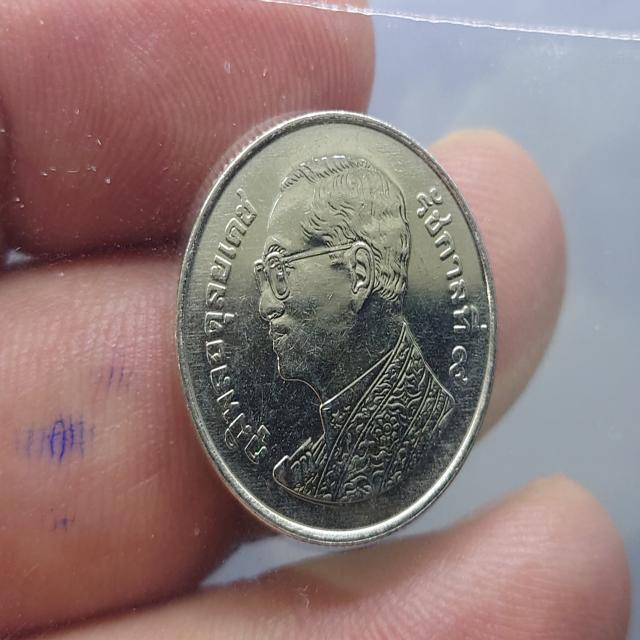1 Bath: (170, 103, 506, 558)
